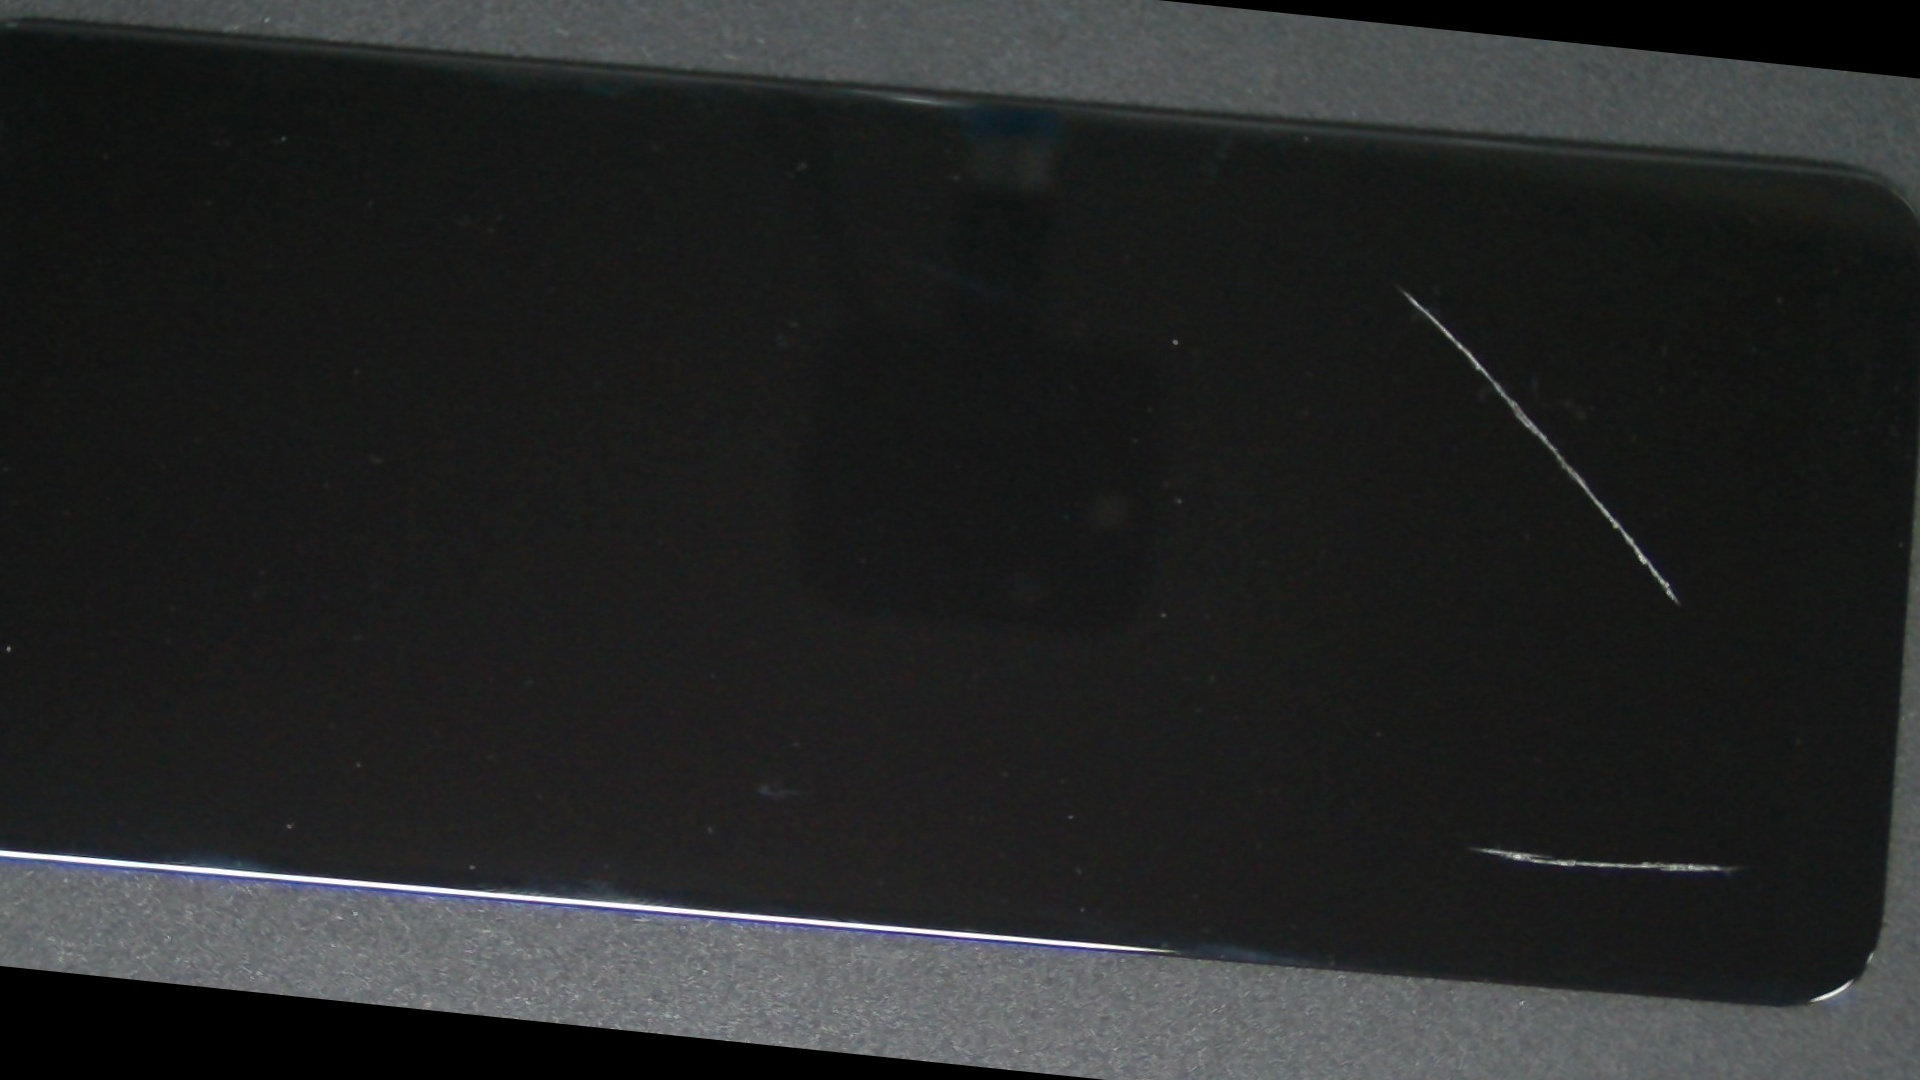oil: (740, 367, 1920, 1080), (628, 79, 1920, 487)
